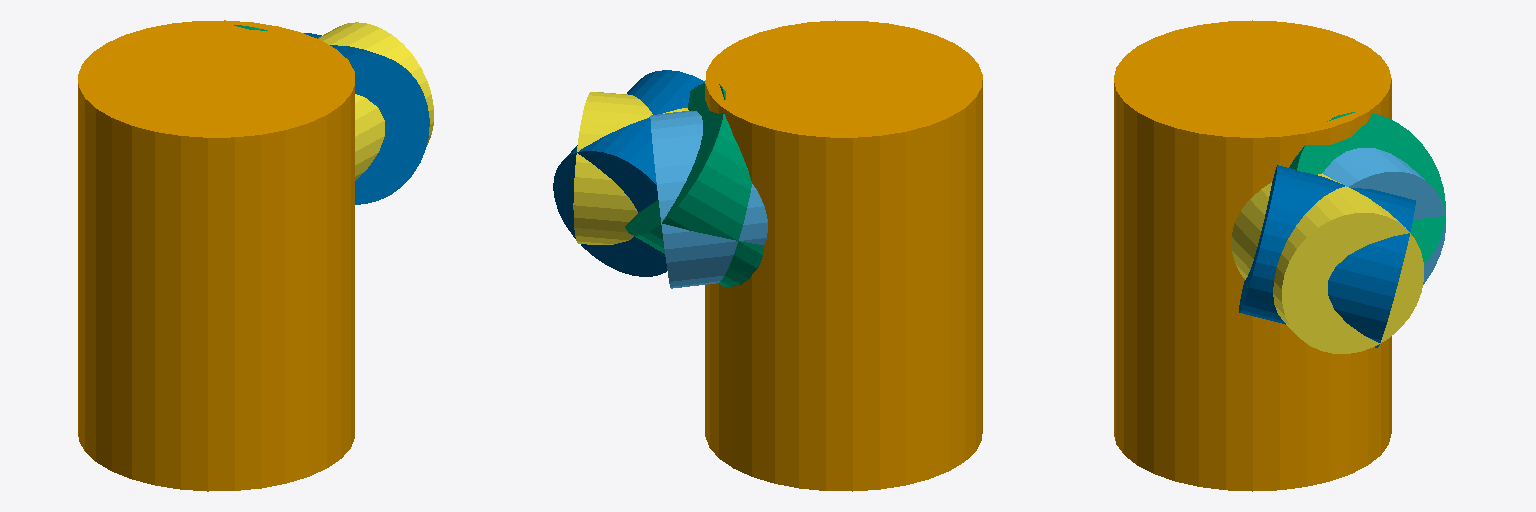
The robot description file, URDF, robot "pepe":
<?xml version="1.0"?><robot name="pepe">
	<link name="0">
		<visual>
			<geometry>
				<cylinder length="2.243930123260016" radius="0.7999200000000001"/>
			</geometry>
		</visual>
		<collision>
			<geometry>
				<cylinder length="2.243930123260016" radius="0.7999200000000001"/>
			</geometry>
		</collision>
		<inertial>
			<mass value="4.510786917132525"/>
			<inertia ixx="0.03" iyy="0.03" izz="0.03" ixy="0" ixz="0" iyx="0"/>
		</inertial>
	</link>
	<link name="11">
		<visual>
			<geometry>
				<cylinder length="0.8565048447059863" radius="0.5027123236282928"/>
			</geometry>
		</visual>
		<collision>
			<geometry>
				<cylinder length="0.8565048447059863" radius="0.5027123236282928"/>
			</geometry>
		</collision>
		<inertial>
			<mass value="0.6800154187743067"/>
			<inertia ixx="0.03" iyy="0.03" izz="0.03" ixy="0" ixz="0" iyx="0"/>
		</inertial>
	</link>
	<link name="12">
		<visual>
			<geometry>
				<cylinder length="0.8565048447059863" radius="0.5027123236282928"/>
			</geometry>
		</visual>
		<collision>
			<geometry>
				<cylinder length="0.8565048447059863" radius="0.5027123236282928"/>
			</geometry>
		</collision>
		<inertial>
			<mass value="0.6800154187743067"/>
			<inertia ixx="0.03" iyy="0.03" izz="0.03" ixy="0" ixz="0" iyx="0"/>
		</inertial>
	</link>
	<link name="23">
		<visual>
			<geometry>
				<cylinder length="0.8225845342657204" radius="0.4405305990451589"/>
			</geometry>
		</visual>
		<collision>
			<geometry>
				<cylinder length="0.8225845342657204" radius="0.4405305990451589"/>
			</geometry>
		</collision>
		<inertial>
			<mass value="0.5015134352079867"/>
			<inertia ixx="0.03" iyy="0.03" izz="0.03" ixy="0" ixz="0" iyx="0"/>
		</inertial>
	</link>
	<link name="24">
		<visual>
			<geometry>
				<cylinder length="0.8225845342657204" radius="0.4405305990451589"/>
			</geometry>
		</visual>
		<collision>
			<geometry>
				<cylinder length="0.8225845342657204" radius="0.4405305990451589"/>
			</geometry>
		</collision>
		<inertial>
			<mass value="0.5015134352079867"/>
			<inertia ixx="0.03" iyy="0.03" izz="0.03" ixy="0" ixz="0" iyx="0"/>
		</inertial>
	</link>
	<joint name="11_to_0" type="revolute">
		<parent link="0"/>
		<child link="11"/>
		<axis xyz="0 0 1"/>
		<limit effort="1" upper="-3.1415" lower="3.1415" velocity="1"/>
		<origin rpy="11.110375891102768 0.1416652757546256 2.1397803374203237" xyz="0.4599149278217173 0.46216850136639875 0.4767258179850268"/>
	</joint>
	<joint name="12_to_0" type="revolute">
		<parent link="0"/>
		<child link="12"/>
		<axis xyz="0 0 1"/>
		<limit effort="1" upper="-3.1415" lower="3.1415" velocity="1"/>
		<origin rpy="16.66556383665415 0.1416652757546256 2.1397803374203237" xyz="0.4599149278217173 0.46216850136639875 0.4767258179850268"/>
	</joint>
	<joint name="23_to_0" type="revolute">
		<parent link="0"/>
		<child link="23"/>
		<axis xyz="0 1 0"/>
		<limit effort="1" upper="-3.1415" lower="3.1415" velocity="1"/>
		<origin rpy="17.209753817455603 4.431990024592093 5.146205054783073" xyz="0.9999 0.42989718586033887 0.4631918129176329"/>
	</joint>
	<joint name="24_to_0" type="revolute">
		<parent link="0"/>
		<child link="24"/>
		<axis xyz="0 1 0"/>
		<limit effort="1" upper="-3.1415" lower="3.1415" velocity="1"/>
		<origin rpy="21.512192271819504 4.431990024592093 5.146205054783073" xyz="0.9999 0.42989718586033887 0.4631918129176329"/>
	</joint>
</robot>

--- Render facts (derived) ---
The picture shows the robot from 3 angles, left to right: view 1: azimuth 30°, elevation 25°; view 2: azimuth 150°, elevation 25°; view 3: azimuth 270°, elevation 25°; orthographic projection.
Model pepe with 5 links and 4 joints (4 revolute), rooted at 0, posed all joints at 0.
Links seen in each view (by area): view 1: 0, 24, 23; view 2: 0, 24, 12, 11, 23; view 3: 0, 23, 24, 12, 11.
Link boxes in pixels (bbox=[...]): 0: bbox=[78, 20, 354, 491]; 24: bbox=[304, 33, 429, 204]; 23: bbox=[318, 22, 433, 180]; 0: bbox=[705, 20, 982, 491]; 24: bbox=[553, 70, 704, 276]; 12: bbox=[625, 83, 763, 286]; 11: bbox=[650, 111, 767, 288]; 23: bbox=[573, 92, 688, 244]; 0: bbox=[1114, 20, 1391, 491]; 23: bbox=[1231, 173, 1423, 353]; 24: bbox=[1239, 165, 1415, 347]; 12: bbox=[1289, 112, 1445, 263]; 11: bbox=[1323, 148, 1445, 284].
Size in the robot's own frame: 2.34 by 1.91 by 2.26 metres.
Geometry: primitives only (box / cylinder / sphere), no mesh files.
